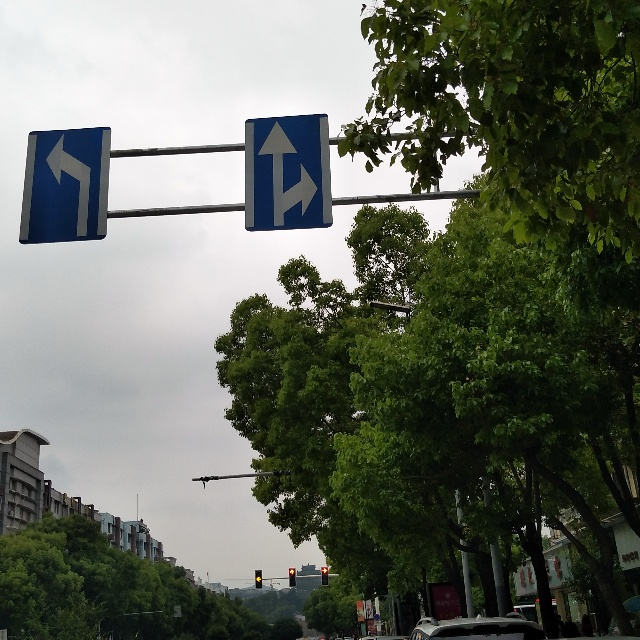left: (31, 129, 103, 241)
